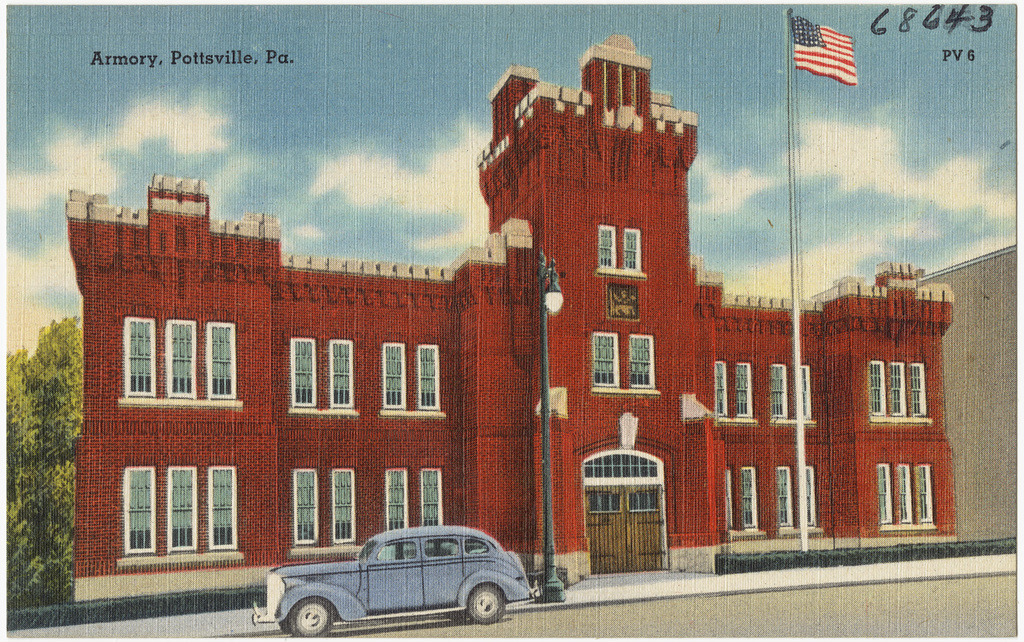Car: (253, 523, 534, 635)
